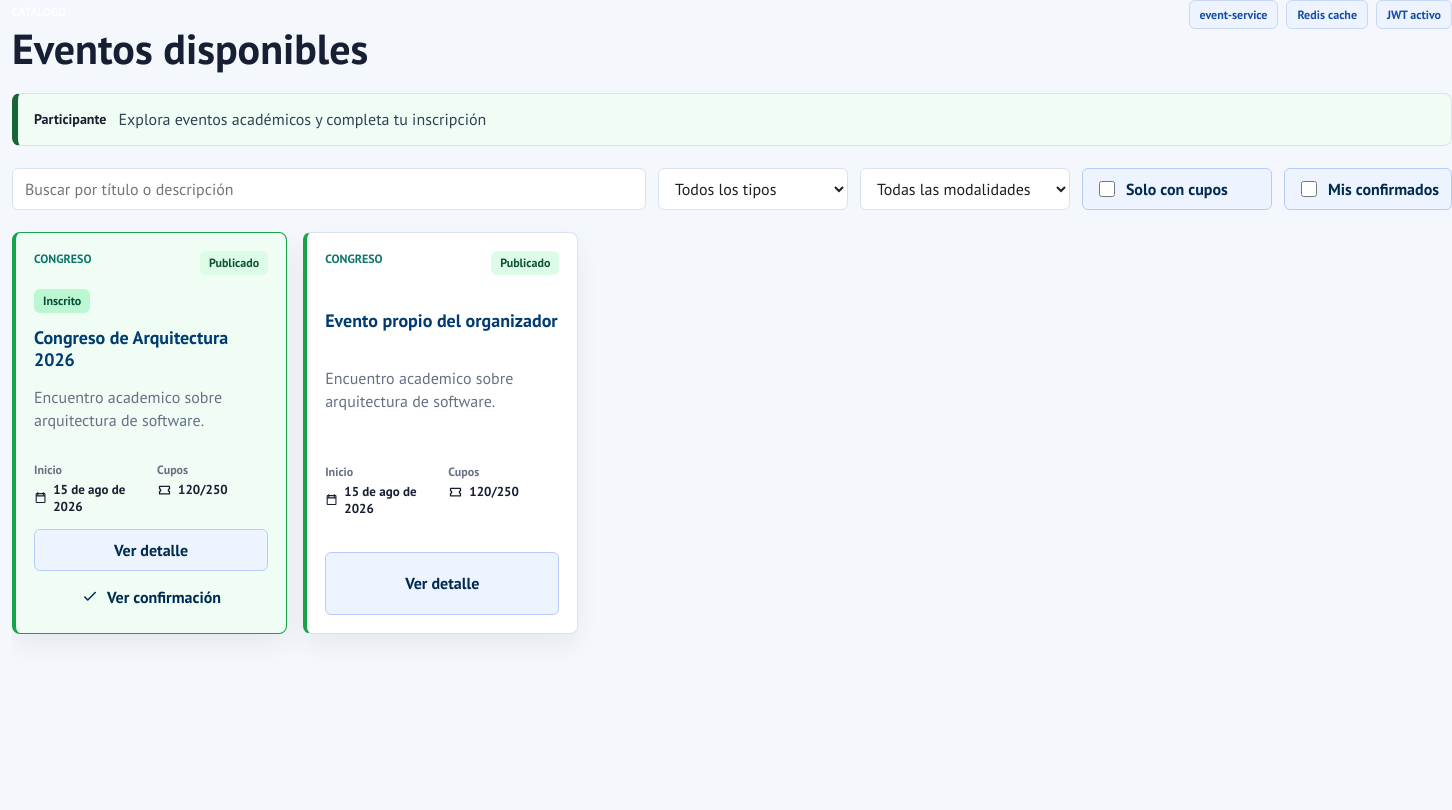
Test: CatalogPage › debe resaltar eventos confirmados y permitir filtrarlos
Check: the text "Inscrito" is shown, box [34,289,90,313]
Check: the heading "Evento propio del organizador" is shown, box [325,309,558,332]
Step 1. Click the checkbox labelled "Mis confirmados" → (1309, 189), box [1301,181,1317,197]
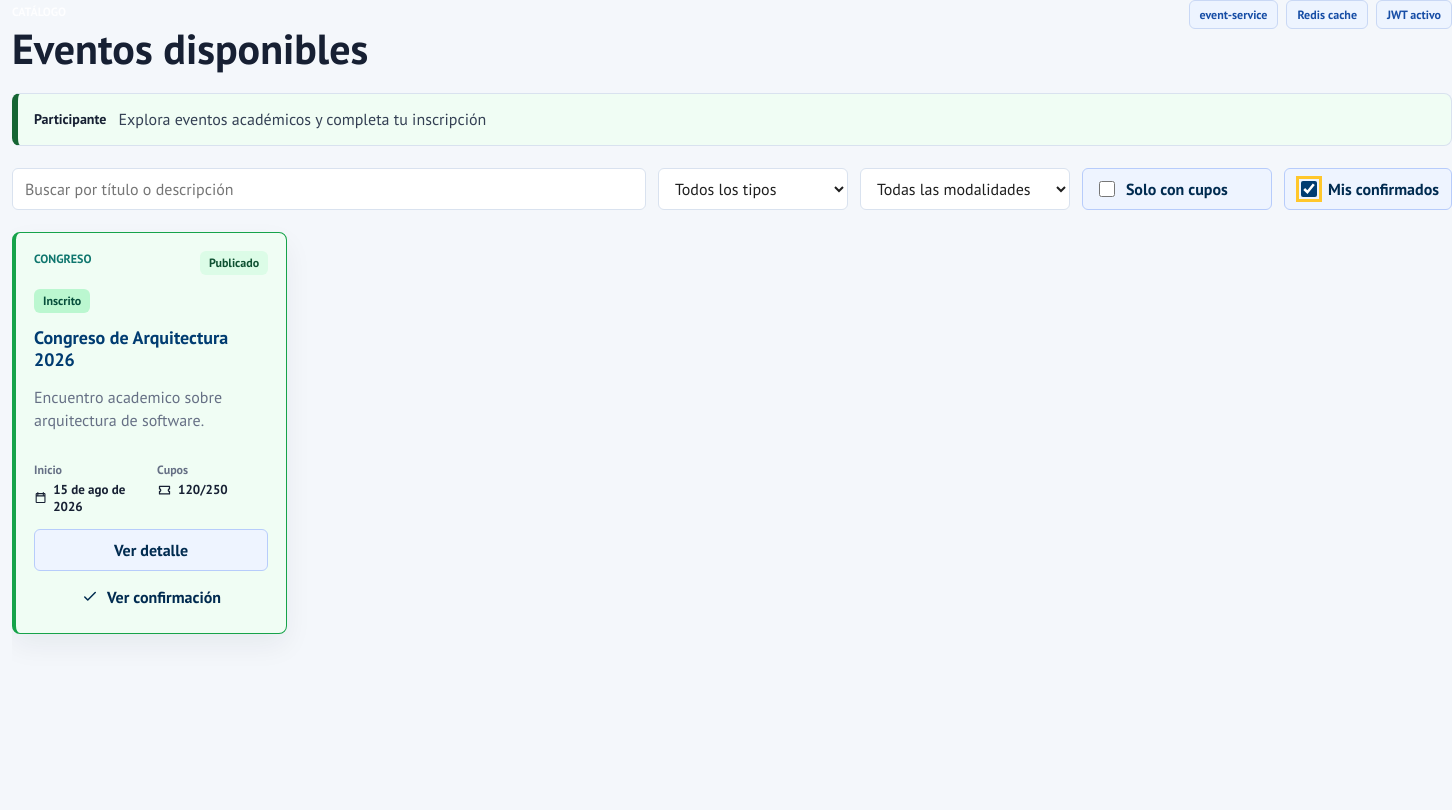
Check: the heading "Congreso de Arquitectura 2026" is shown, box [34,326,228,371]
Check: the heading "Evento propio del organizador" is gone
